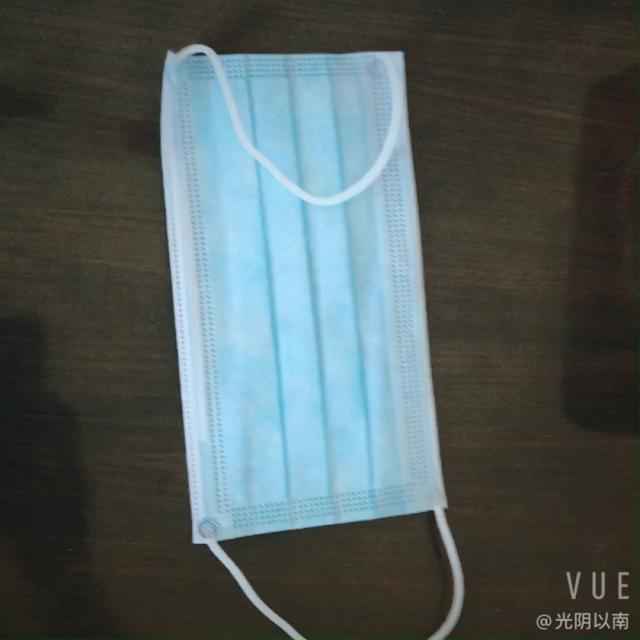non-organic waste: (165, 37, 436, 566)
